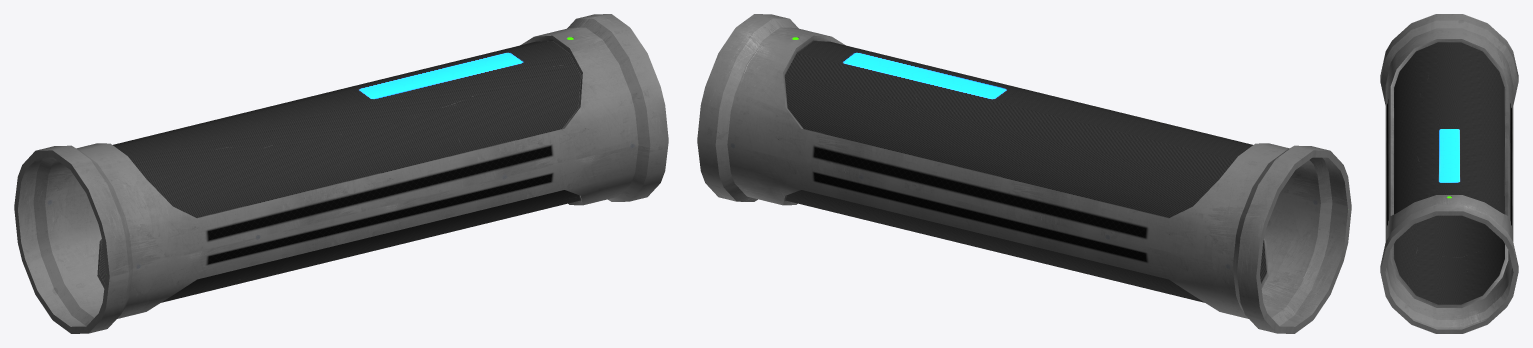
The model's file is grip_1_c_c.glb.
3 renders of one model, left to right at view 1: azimuth 30°, elevation 25°; view 2: azimuth 150°, elevation 25°; view 3: azimuth 270°, elevation 25°, orthographic. The views are drawn at different scales.
Visible parts, largest first — view 1: grip_1_c_c_lod0; view 2: grip_1_c_c_lod0; view 3: grip_1_c_c_lod0.
Part boxes in pixels (x1,y1,x2,y2): grip_1_c_c_lod0: (14,14,668,333); grip_1_c_c_lod0: (697,14,1351,333); grip_1_c_c_lod0: (1380,14,1518,333).
Size of what is drawn, in the model's own units: 0.1054 by 0.0306 by 0.0312.
Materials: 1 (1 with a texture image).
